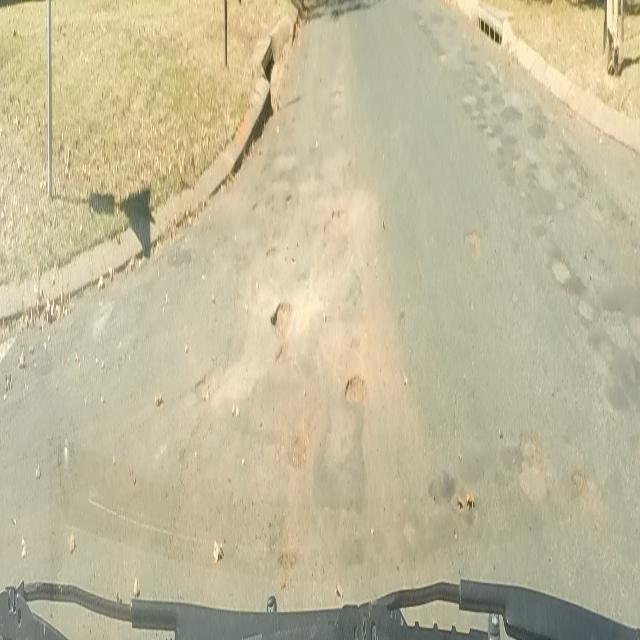pothole: (270, 298, 294, 346), (343, 375, 366, 410)
